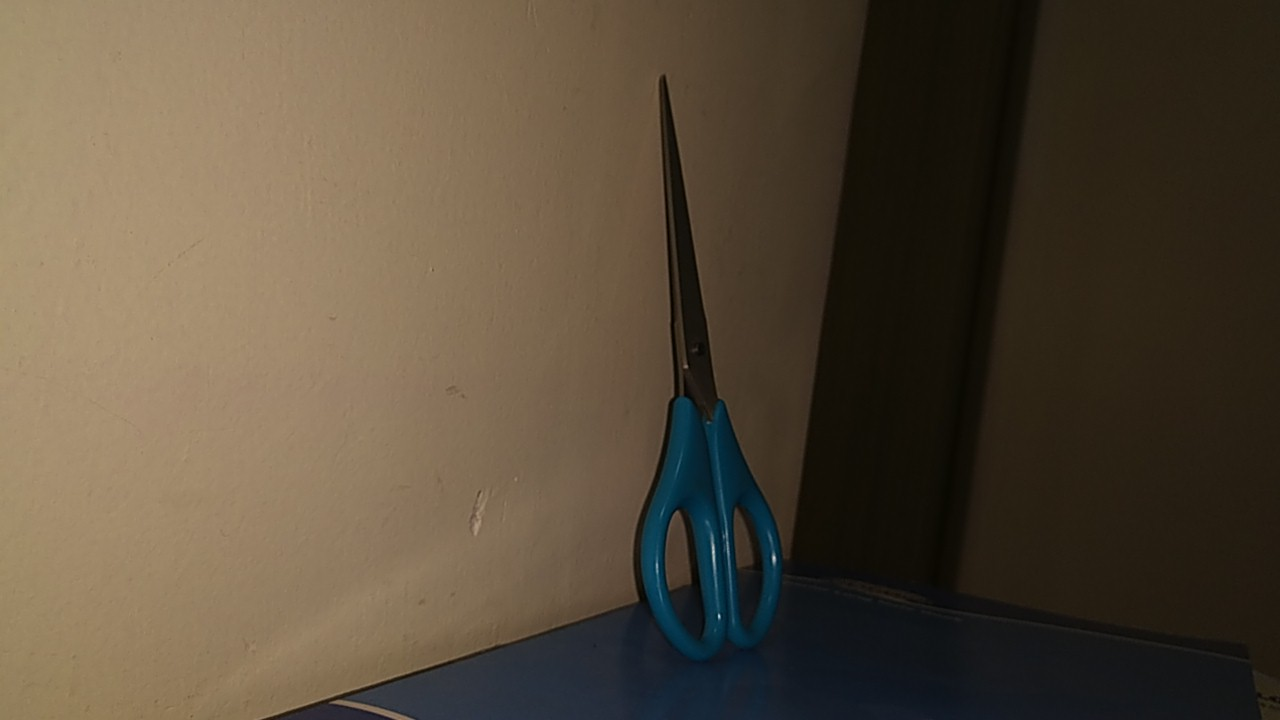scissor: (607, 60, 824, 670)
